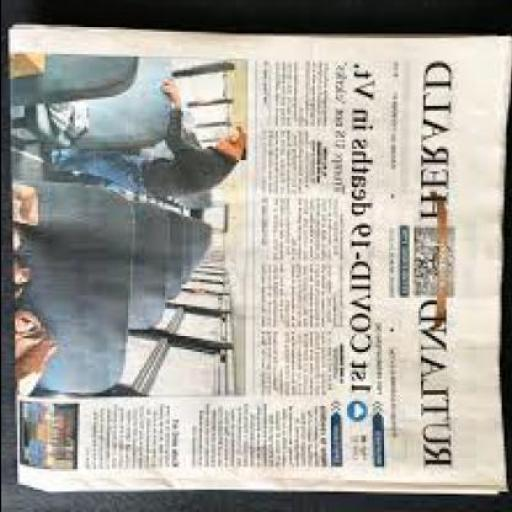paper: (10, 27, 512, 501)
